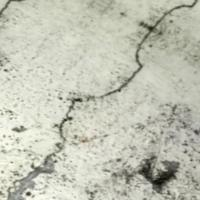crack: (47, 0, 199, 143)
